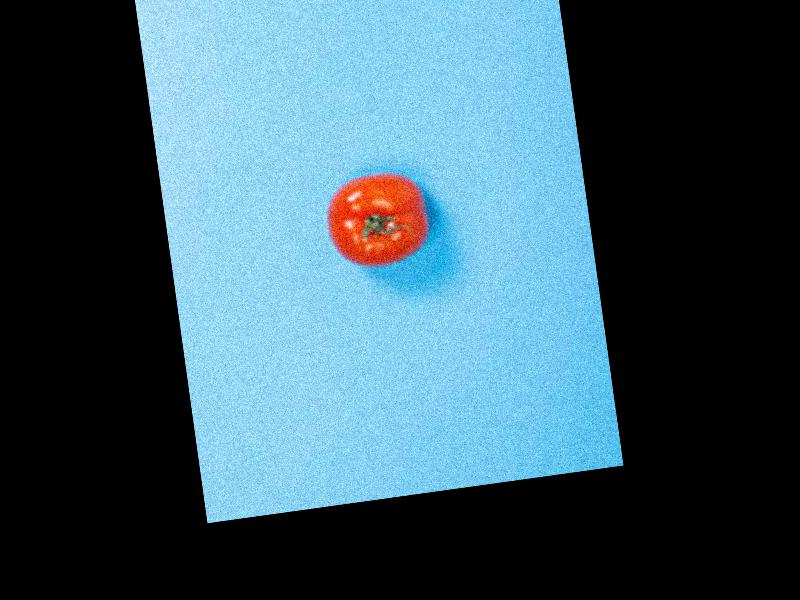Tomato: (320, 169, 433, 275)
